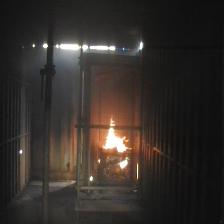fire: (104, 119, 132, 152), (119, 157, 128, 169)
